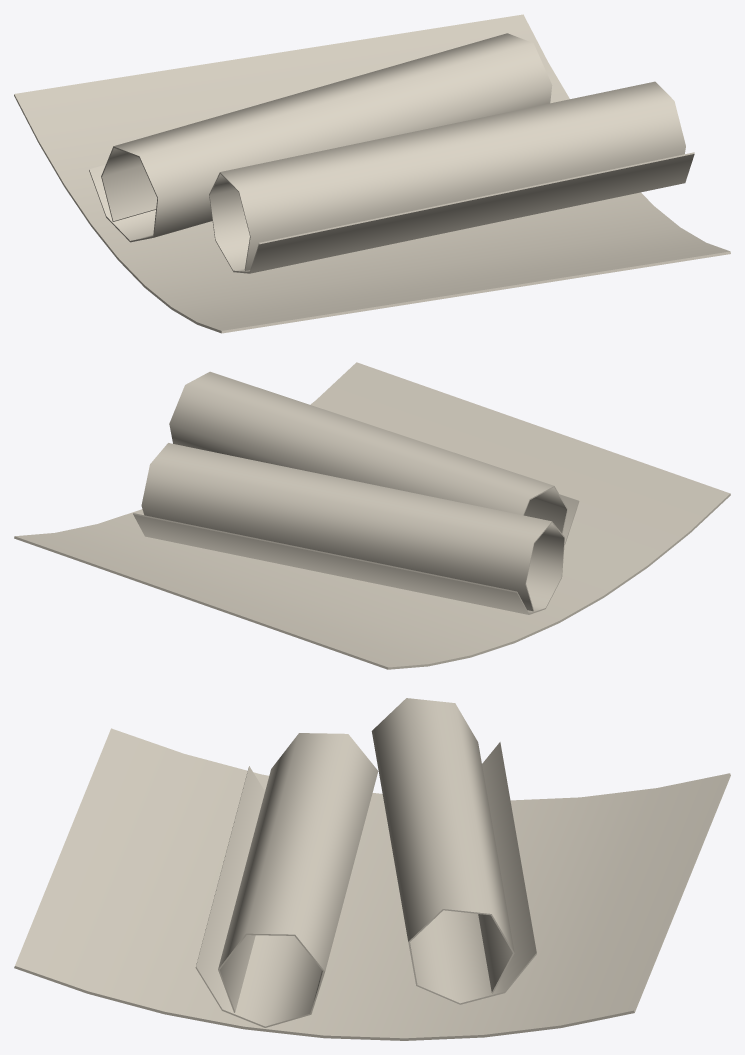
The model's file is Papel.fbx.
3 renders of one model, top to bottom at view 1: azimuth 30°, elevation 25°; view 2: azimuth 150°, elevation 25°; view 3: azimuth 270°, elevation 25°, orthographic. The views are drawn at different scales.
Parts seen in each view (by area): view 1: pCube5, pCube3, pCube4; view 2: pCube5, pCube4, pCube3; view 3: pCube5, pCube4, pCube3.
Part boxes in pixels (bbox=[...]): pCube5: bbox=[14, 14, 730, 333]; pCube3: bbox=[209, 81, 694, 273]; pCube4: bbox=[89, 33, 552, 242]; pCube5: bbox=[14, 362, 730, 669]; pCube4: bbox=[133, 443, 564, 614]; pCube3: bbox=[169, 371, 579, 544]; pCube5: bbox=[14, 728, 730, 1040]; pCube4: bbox=[371, 698, 536, 1004]; pCube3: bbox=[195, 733, 378, 1027].
Size of the model in its own units: 35.31 by 6.47 by 37.88.
